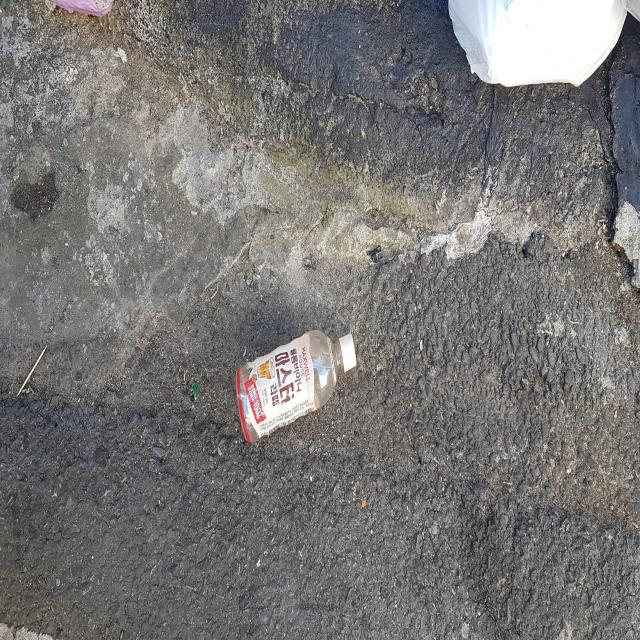plastic: (236, 330, 357, 443)
